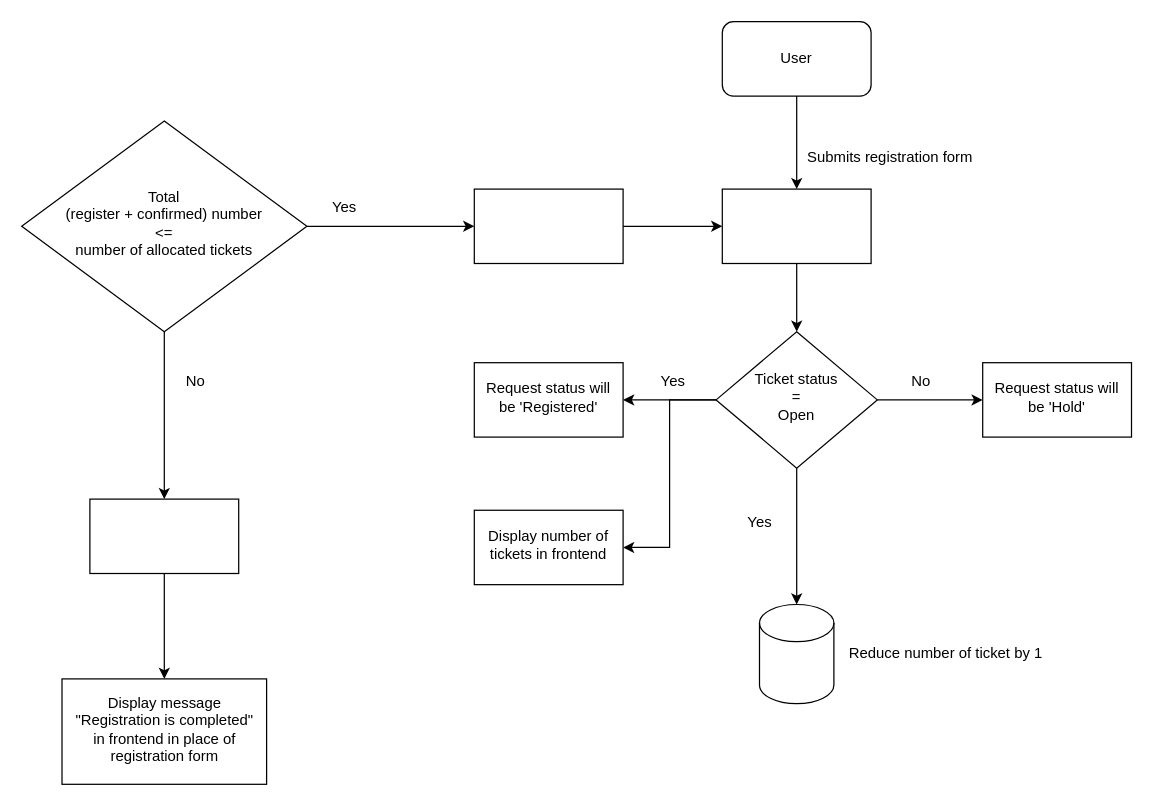
This 1153x806 diagram has some shape labels left out. The centre of each missing label's shape, as x and y in pixels:
"Display registration form in frontend" belongs at [796,226].
"Ticket status = Closed" belongs at [164,536].
"Ticket status = Open/Extras" belongs at [548,226].
